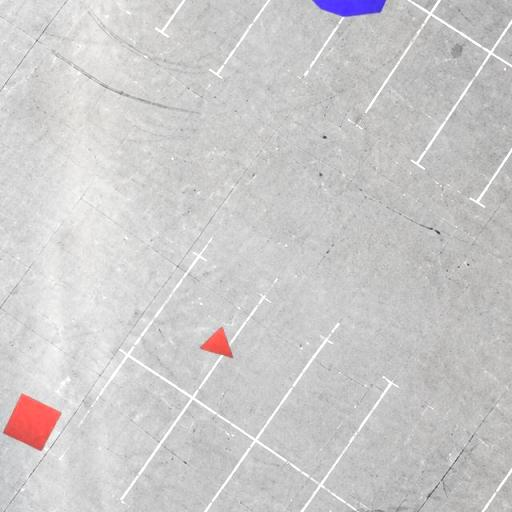RED_SQUARE: (2, 394, 62, 452)
